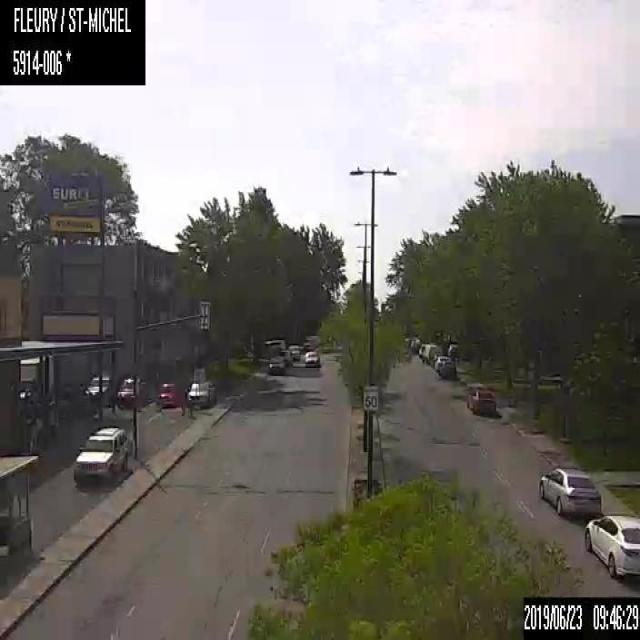vehicle: (534, 463, 603, 518), (582, 513, 639, 577), (72, 422, 126, 482), (464, 380, 496, 413), (187, 377, 213, 410), (117, 375, 142, 408), (157, 379, 181, 410), (84, 374, 110, 401), (266, 353, 290, 373), (418, 342, 439, 364), (303, 349, 322, 367), (436, 357, 453, 376)
